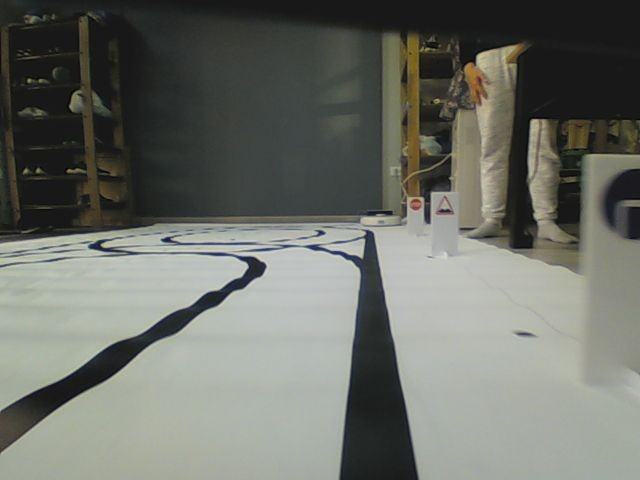Nerov: (434, 195, 454, 215)
